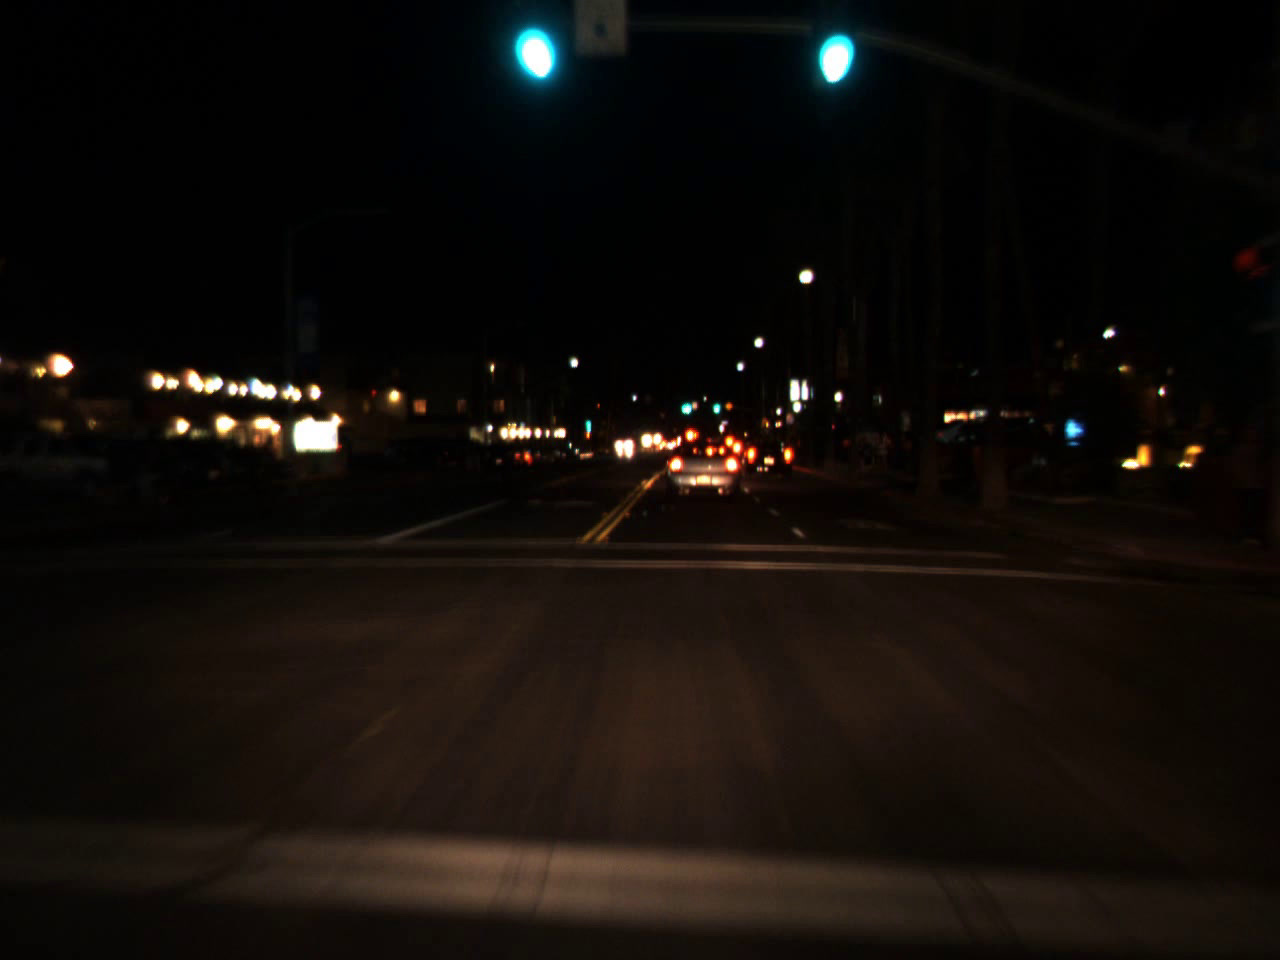go: (811, 4, 854, 88), (514, 0, 553, 85), (678, 392, 692, 416), (583, 407, 592, 434), (711, 396, 721, 414)
